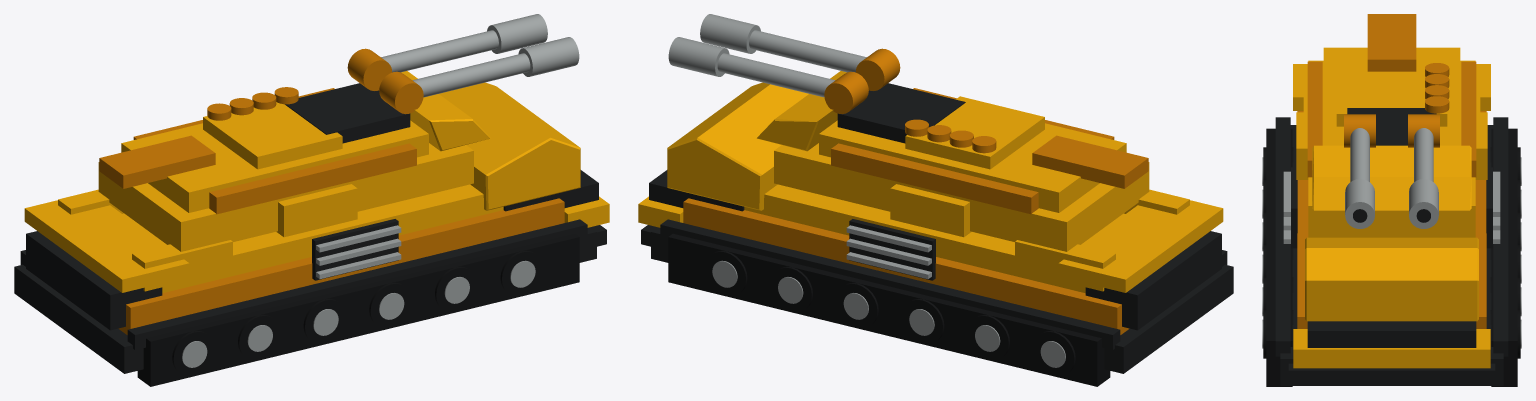
The model's file is yellow-twin-cannon-tank.glb.
The picture shows the model from 3 angles, left to right: view 1: azimuth 30°, elevation 25°; view 2: azimuth 150°, elevation 25°; view 3: azimuth 270°, elevation 25°; orthographic projection.
Parts seen in each view (by area): view 1: Continuous rubber track, Turret lower armour, Lower yellow hull, Raised front glacis, Rear deck edge, Armoured hull deck, Turret upper armour, Track guard, Track roller (×6), Turret central hatch, Turret side rail, Rear equipment block (+14 smaller); view 2: Continuous rubber track, Turret lower armour, Lower yellow hull, Raised front glacis, Rear deck edge, Armoured hull deck, Turret upper armour, Track guard, Track roller (×6), Turret side rail, Rear equipment block, Turret central hatch (+14 smaller); view 3: Raised front glacis, Turret front slope, Track guard (×2), Continuous rubber track (×2), Front bumper tile, Front black intake, Turret lower armour, Turret upper armour, Front lower bumper, Turret central hatch, Turret side rail (×2), Lower yellow hull (+11 smaller).
Part boxes in pixels (bbox=[...]): Continuous rubber track: bbox=[137, 233, 579, 386]; Turret lower armour: bbox=[98, 143, 473, 251]; Lower yellow hull: bbox=[118, 198, 564, 334]; Raised front glacis: bbox=[439, 82, 580, 210]; Rear deck edge: bbox=[24, 200, 189, 292]; Armoured hull deck: bbox=[122, 184, 503, 293]; Turret upper armour: bbox=[121, 120, 428, 212]; Track guard: bbox=[127, 219, 587, 349]; Track roller (×6): bbox=[172, 250, 543, 376]; Turret central hatch: bbox=[203, 102, 342, 169]; Turret side rail: bbox=[209, 143, 416, 214]; Rear equipment block: bbox=[26, 231, 162, 330]; Continuous rubber track: bbox=[668, 233, 1110, 386]; Turret lower armour: bbox=[774, 143, 1149, 251]; Lower yellow hull: bbox=[683, 198, 1129, 334]; Raised front glacis: bbox=[667, 82, 808, 210]; Rear deck edge: bbox=[1058, 200, 1223, 292]; Armoured hull deck: bbox=[744, 184, 1125, 293]; Turret upper armour: bbox=[819, 120, 1126, 212]; Track guard: bbox=[660, 219, 1120, 349]; Track roller (×6): bbox=[704, 250, 1075, 376]; Turret side rail: bbox=[831, 143, 1038, 214]; Rear equipment block: bbox=[1085, 231, 1221, 330]; Turret central hatch: bbox=[905, 96, 1044, 169]; Raised front glacis: bbox=[1305, 237, 1478, 321]; Turret front slope: bbox=[1312, 145, 1471, 210]; Track guard (×2): bbox=[1275, 117, 1508, 356]; Continuous rubber track (×2): bbox=[1266, 128, 1517, 386]; Front bumper tile: bbox=[1293, 329, 1490, 368]; Front black intake: bbox=[1307, 321, 1476, 347]; Turret lower armour: bbox=[1308, 60, 1475, 237]; Turret upper armour: bbox=[1323, 47, 1460, 145]; Front lower bumper: bbox=[1288, 363, 1495, 385]; Turret central hatch: bbox=[1336, 72, 1447, 126]; Turret side rail (×2): bbox=[1307, 61, 1476, 177]; Lower yellow hull: bbox=[1297, 111, 1486, 328].
Size of the model in its own units: 6.15 by 2.42 by 2.77.
